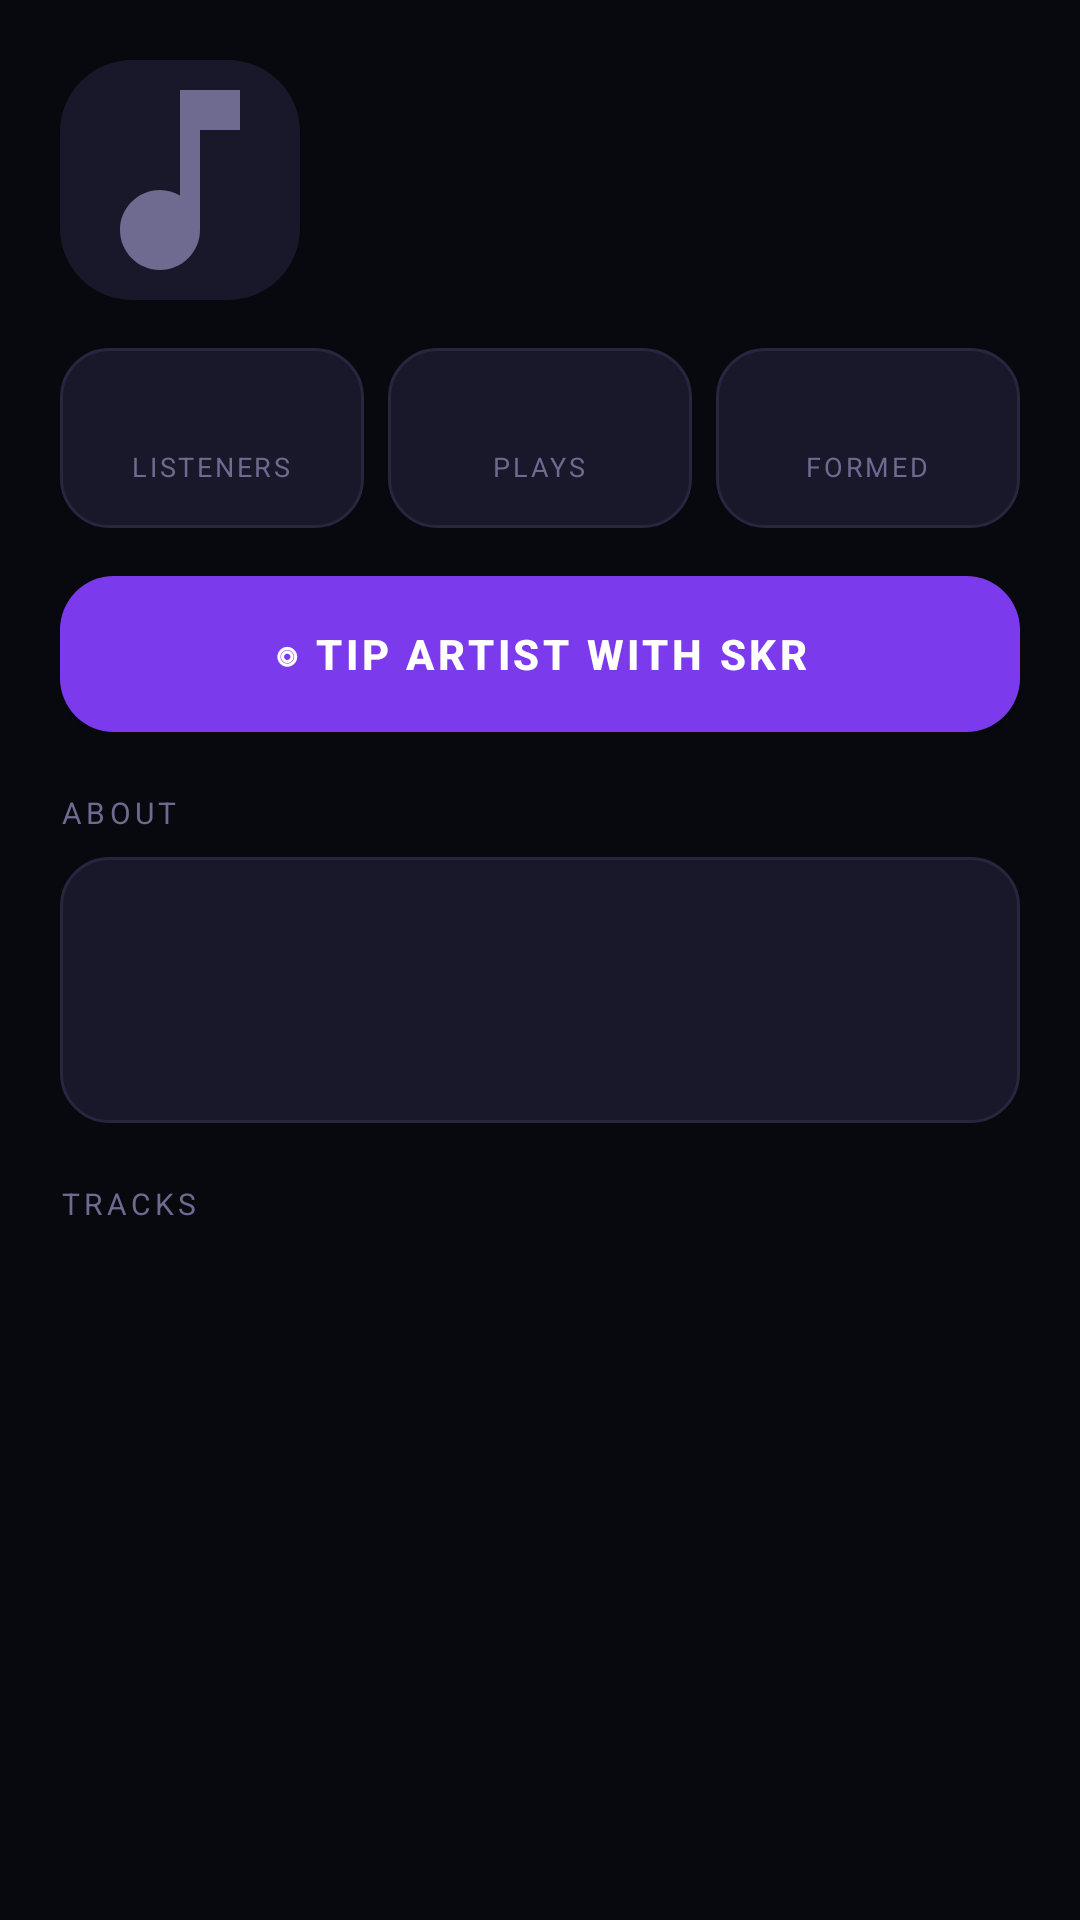

Where to tap for icons on this 1080w x 1920h app screen, as (x,y):
music note: (180,180)
